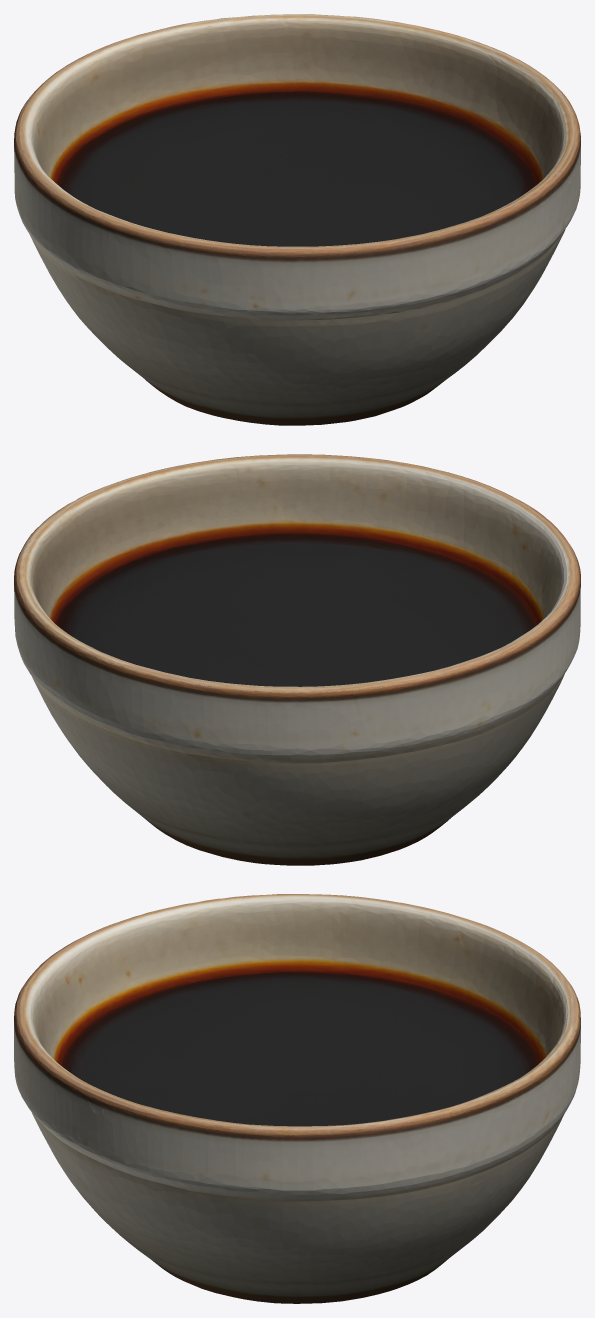
The model's file is to_xi_dau.glb.
The picture shows the model from 3 angles, top to bottom: view 1: azimuth 30°, elevation 25°; view 2: azimuth 150°, elevation 25°; view 3: azimuth 270°, elevation 25°; orthographic projection.
Parts seen in each view (by area): view 1: world; view 2: world; view 3: world.
Part boxes in pixels (x1=…): world: x1=14, y1=14, x2=580, y2=425; world: x1=14, y1=454, x2=580, y2=865; world: x1=14, y1=894, x2=580, y2=1303.
Size of the model in its own units: 0.9996 by 0.4473 by 0.9996.
1 material, 1 textured.
